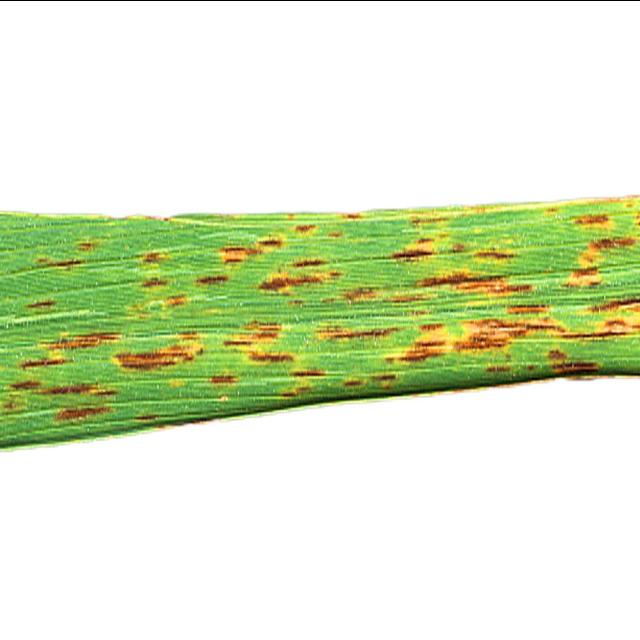Narrow brown: (0, 82, 639, 504)
